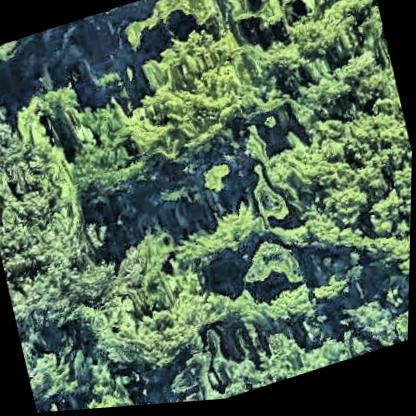tree-top: (290, 96, 414, 310), (74, 214, 224, 389), (0, 110, 106, 344), (110, 17, 266, 175), (272, 0, 395, 126), (207, 312, 347, 404), (51, 94, 150, 220), (180, 193, 267, 272), (124, 0, 227, 60), (336, 288, 411, 365)
